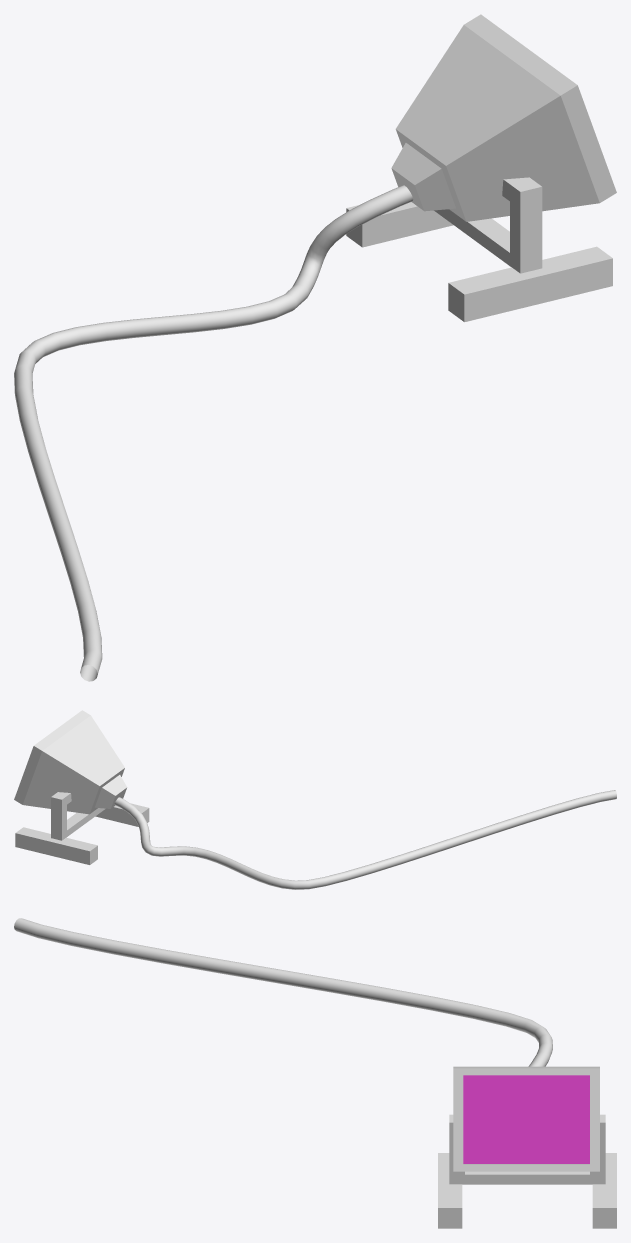
Rendered from Small_Light.fbx.
3 views of the same model, one above another, from view 1: azimuth 30°, elevation 25°; view 2: azimuth 150°, elevation 25°; view 3: azimuth 270°, elevation 25° (orthographic). The views are drawn at different scales.
Parts seen in each view (by area): view 1: Cube.003, BezierCurve, Cube, Cube.002, Cube.001; view 2: Cube.003, BezierCurve, Cube.001, Cube.002, Cube; view 3: Cube.003, BezierCurve, Cube.002, Cube, Cube.001.
Part boxes in pixels (x1=…): Cube.003: x1=391, y1=14, x2=616, y2=221; BezierCurve: x1=14, y1=185, x2=413, y2=681; Cube: x1=448, y1=246, x2=612, y2=322; Cube.002: x1=434, y1=177, x2=542, y2=273; Cube.001: x1=346, y1=202, x2=453, y2=247; Cube.003: x1=14, y1=710, x2=127, y2=814; BezierCurve: x1=114, y1=790, x2=616, y2=889; Cube.001: x1=15, y1=827, x2=97, y2=864; Cube.002: x1=51, y1=792, x2=105, y2=840; Cube: x1=95, y1=803, x2=149, y2=826; Cube.003: x1=453, y1=1066, x2=599, y2=1171; BezierCurve: x1=14, y1=918, x2=552, y2=1066; Cube.002: x1=449, y1=1114, x2=605, y2=1184; Cube: x1=438, y1=1153, x2=462, y2=1228; Cube.001: x1=592, y1=1153, x2=616, y2=1228.
Size of the model in its own units: 613 by 143 by 515.
